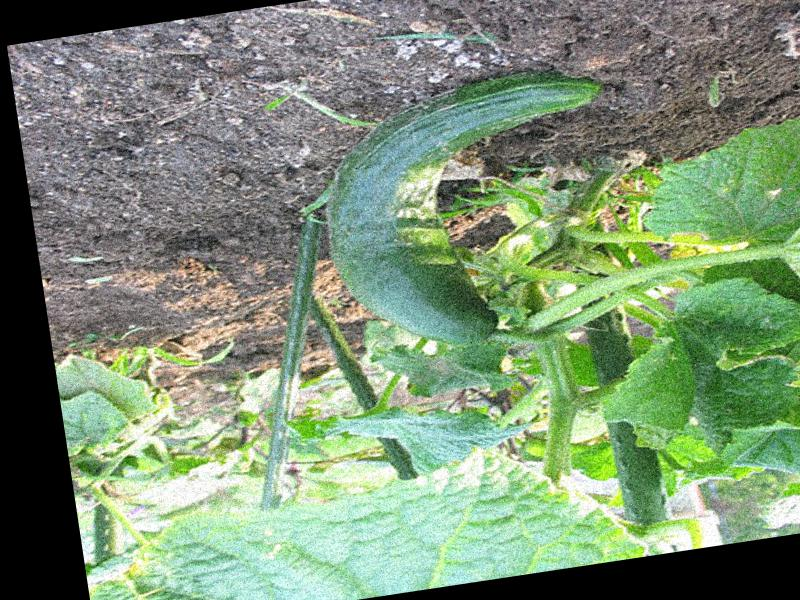Cucumber: (306, 60, 638, 364)
